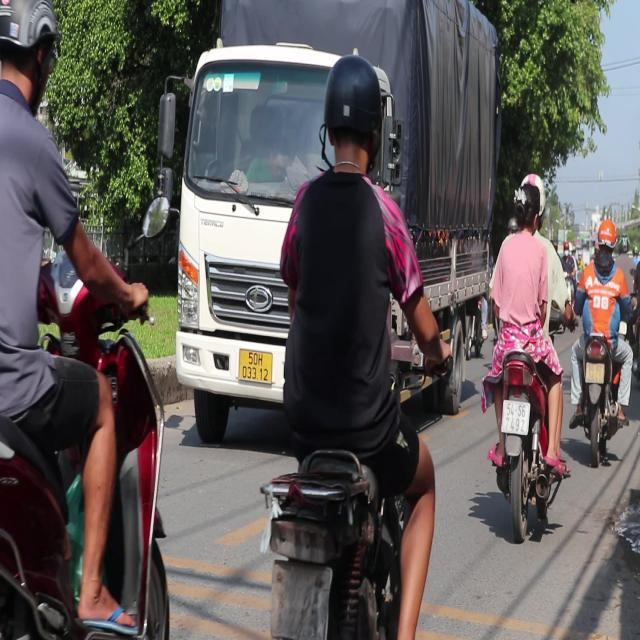helmet: (319, 52, 384, 175), (0, 0, 60, 113), (594, 217, 617, 260)
licenseplate: (250, 48, 450, 636), (0, 0, 182, 633), (478, 169, 570, 542), (569, 216, 633, 462)
motorcyclist: (511, 178, 541, 238)
nohelmet: (266, 566, 329, 634), (501, 399, 529, 434), (585, 362, 604, 384)
